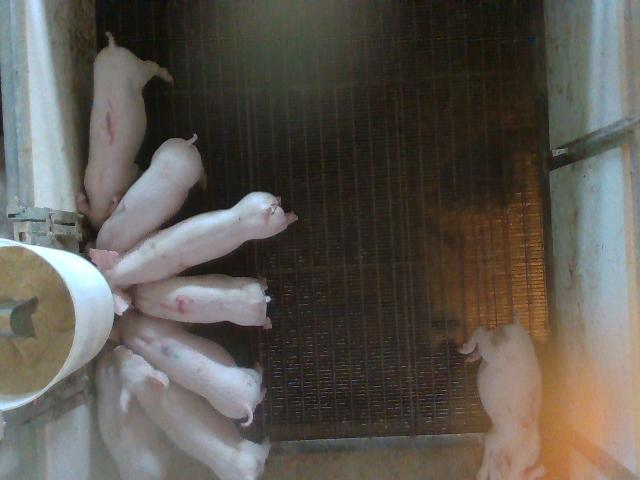pig-1: (76, 32, 172, 229)
pig-3: (460, 320, 544, 478)
pig-4: (131, 274, 271, 328)
